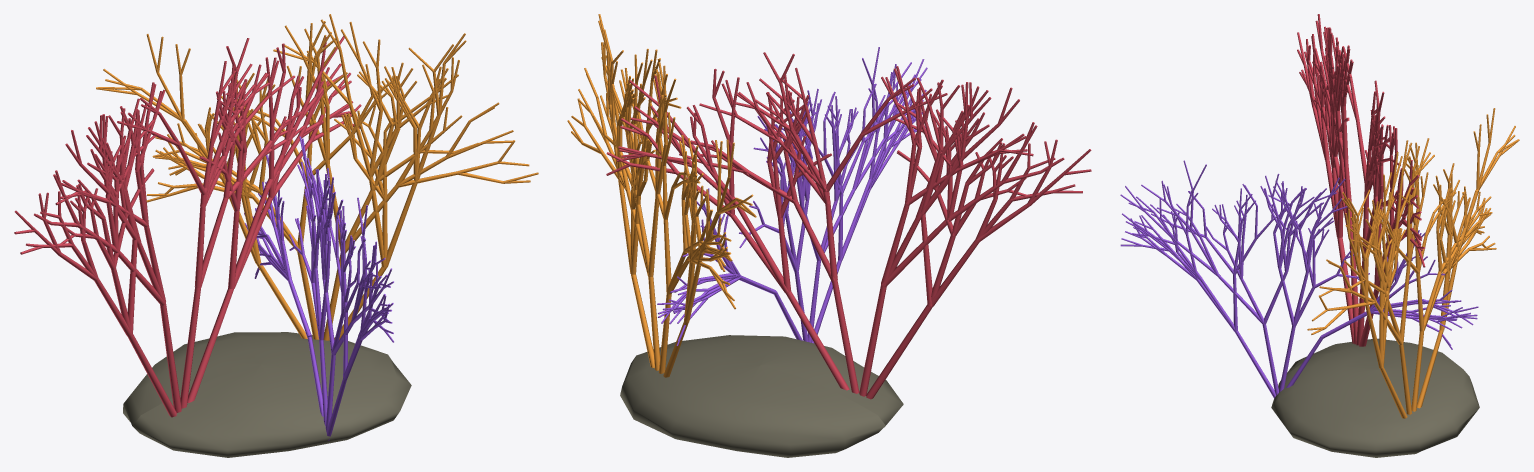
The model's file is sea_fans.glb.
3 views of the same model, side by side, from view 1: azimuth 30°, elevation 25°; view 2: azimuth 150°, elevation 25°; view 3: azimuth 270°, elevation 25° (orthographic). The views are drawn at different scales.
Visible parts, largest first — view 1: Sea fans; view 2: Sea fans; view 3: Sea fans.
Part boxes in pixels (<box>): Sea fans: <box>14,14,538,457</box>; Sea fans: <box>567,14,1091,457</box>; Sea fans: <box>1120,14,1519,457</box>.
Size of the model in its own units: 2.92 by 2.04 by 2.26.
